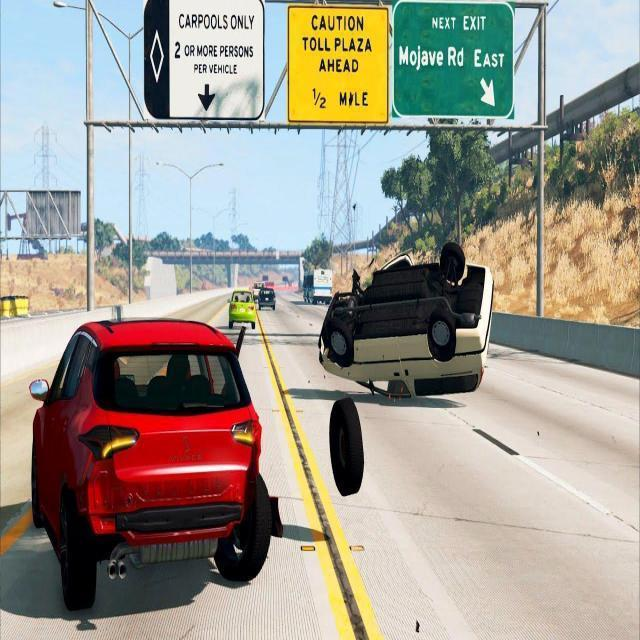accident: (314, 234, 496, 404)
